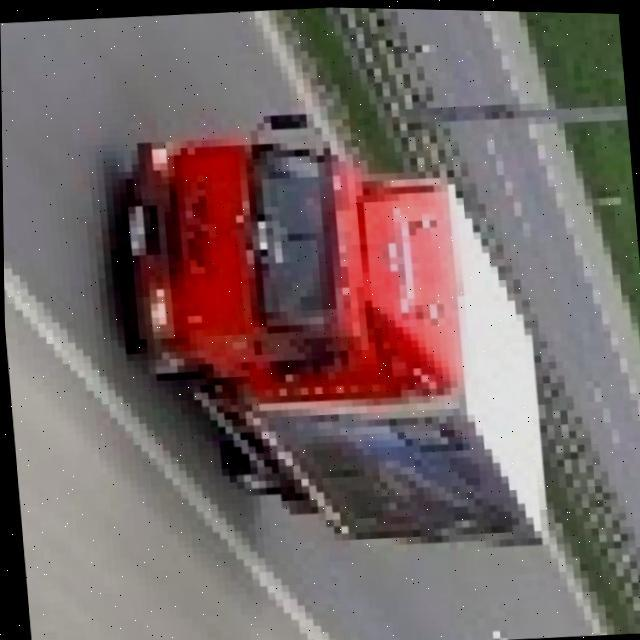truck: (112, 86, 561, 562)
